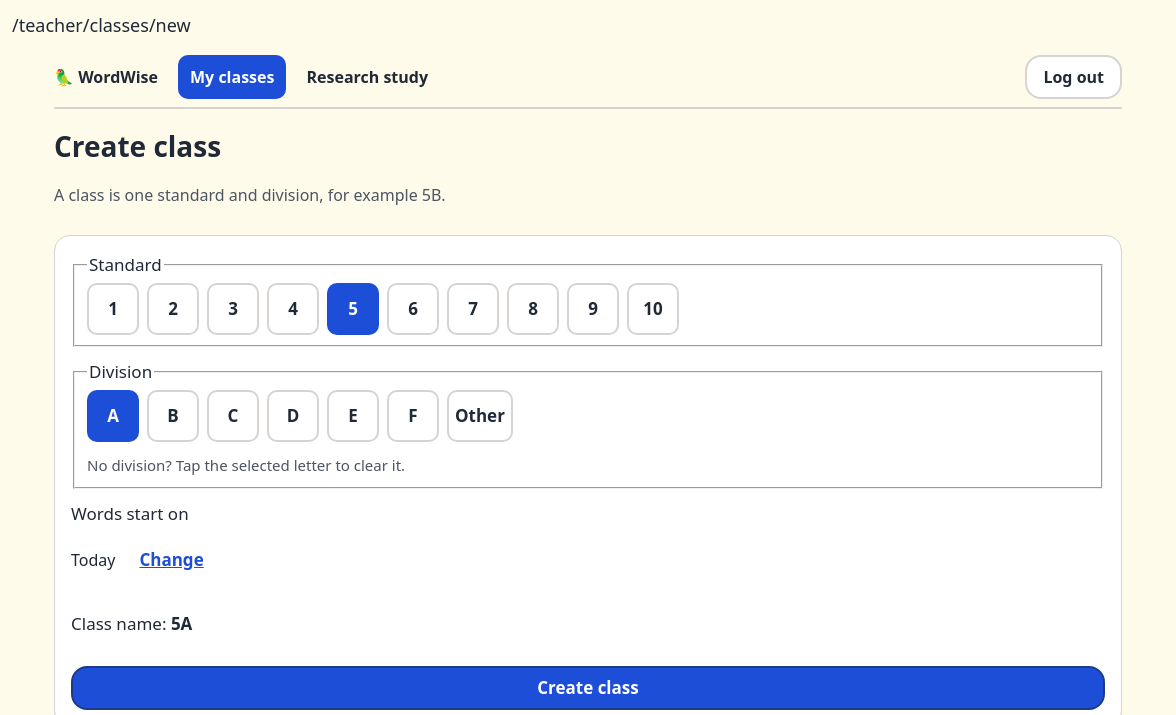
Test case: teacher app (mock API) › creates a class in one screen and goes to add students
The image size is (1176, 715).
Expected: the text "Class name:" is shown, [71,612,171,635]
Expected: the text "5A" is shown, [171,612,192,635]
Click the button named "Standard 6": point(413, 309) [387,283,439,335]
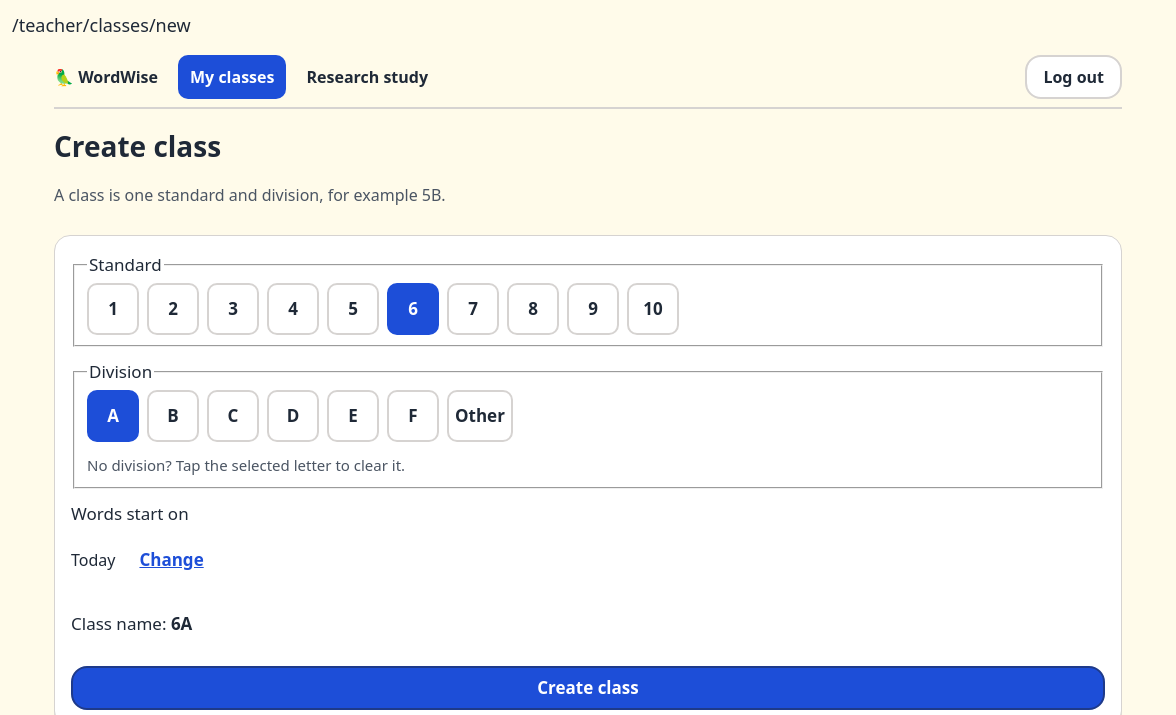
Click the button named "Division B": point(173, 416) [147,390,199,442]
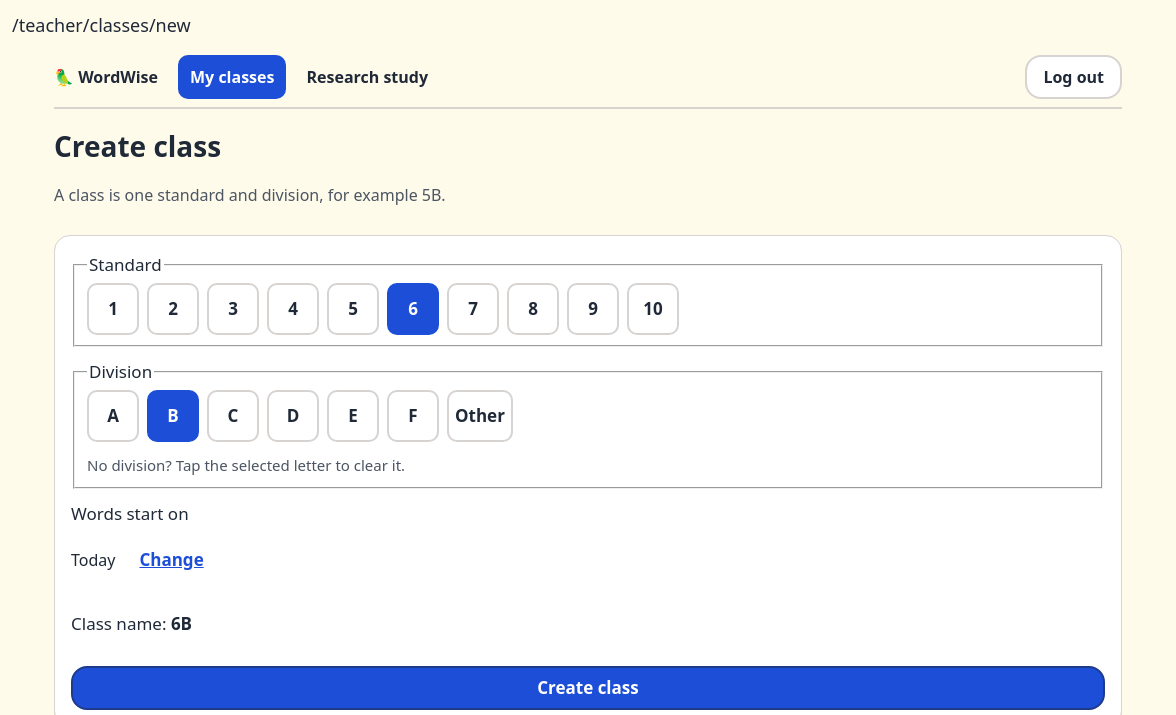
Expected: the text "6B" is shown, [171,612,192,635]
Click the button "Create class": point(588, 688) [71,666,1105,710]
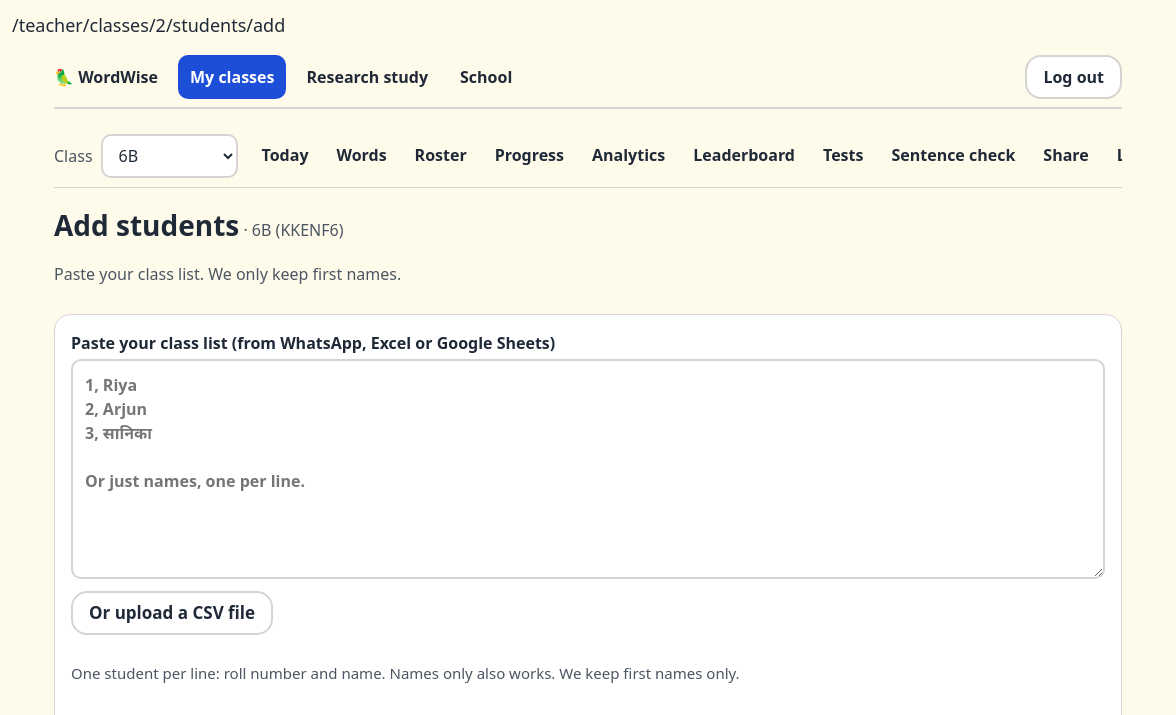
Expected: the text with test id "where" reads "/teacher/classes/2/students/add", [12,13,285,37]
